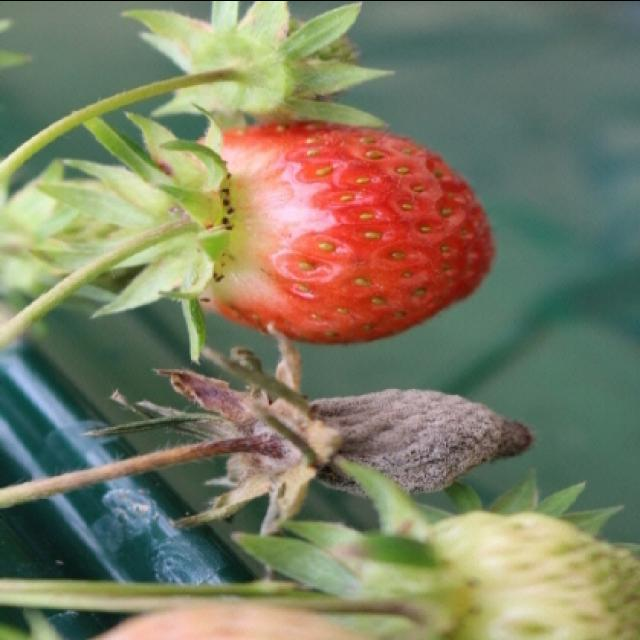Gray Mold: (151, 332, 534, 535)
